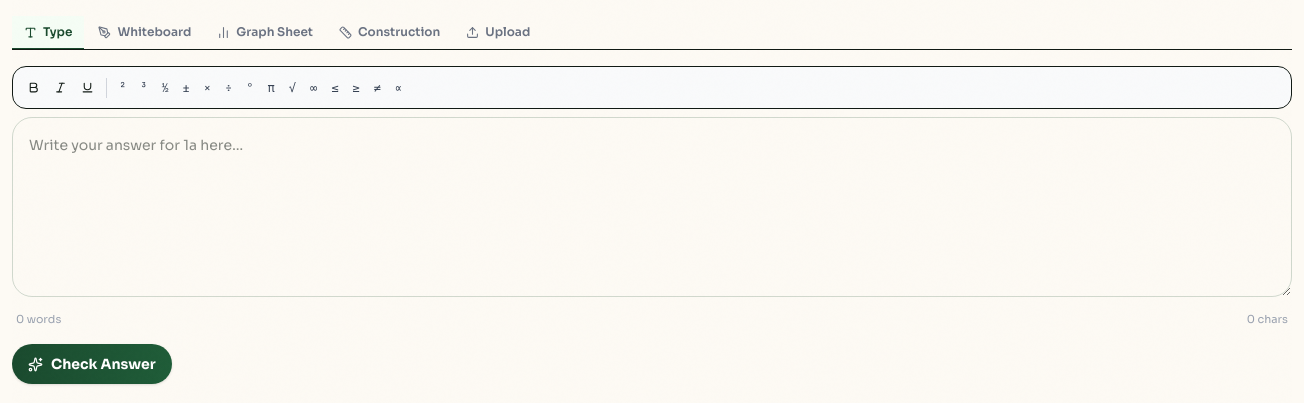
Test: upload panel › shows drag-and-drop zone when no file is uploaded
Click the button "Upload": (498, 33) [454,16,542,50]
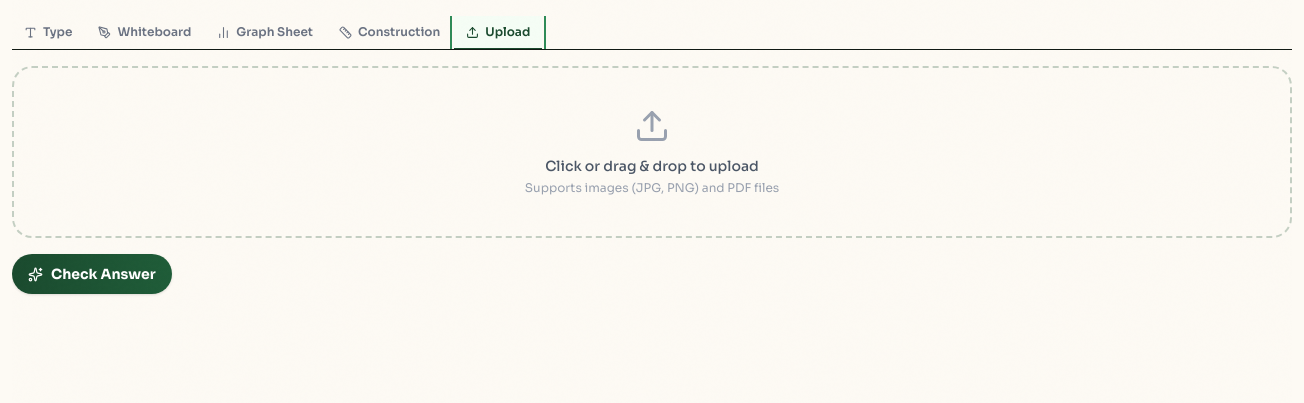
Now the text "Click or drag & drop to upload" is shown, box [545,157,759,175]
